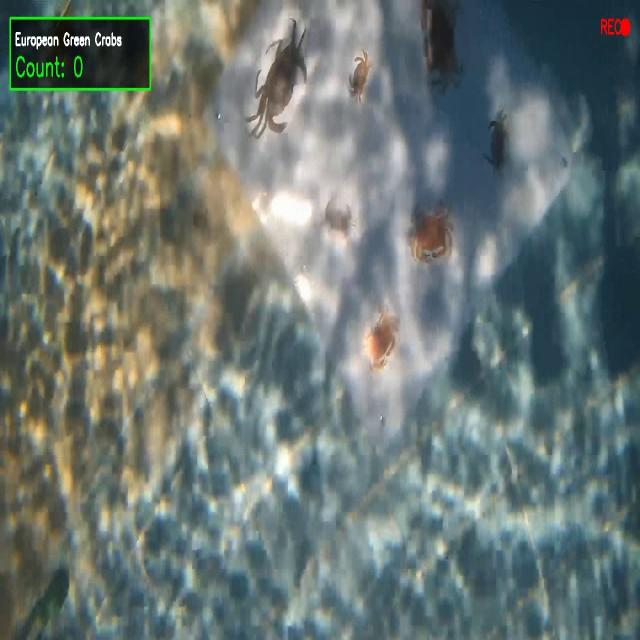European_Green_Crab: (237, 6, 323, 155), (321, 182, 359, 254), (486, 110, 512, 176)
